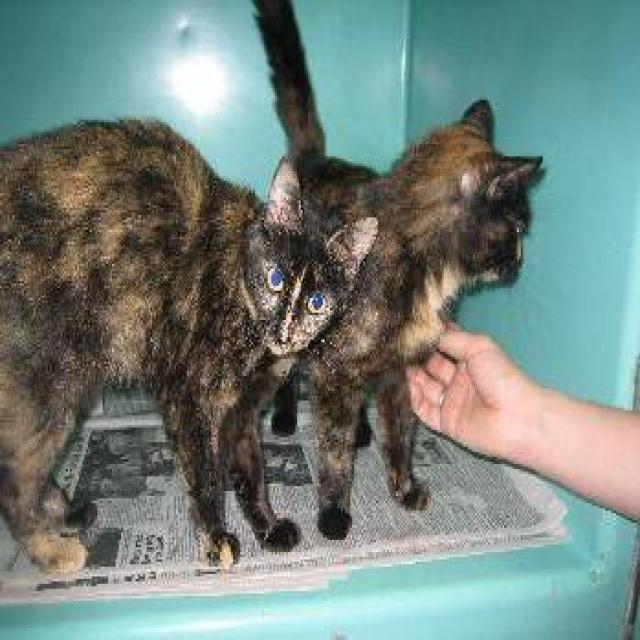cat: (0, 0, 378, 574), (248, 0, 544, 540)
